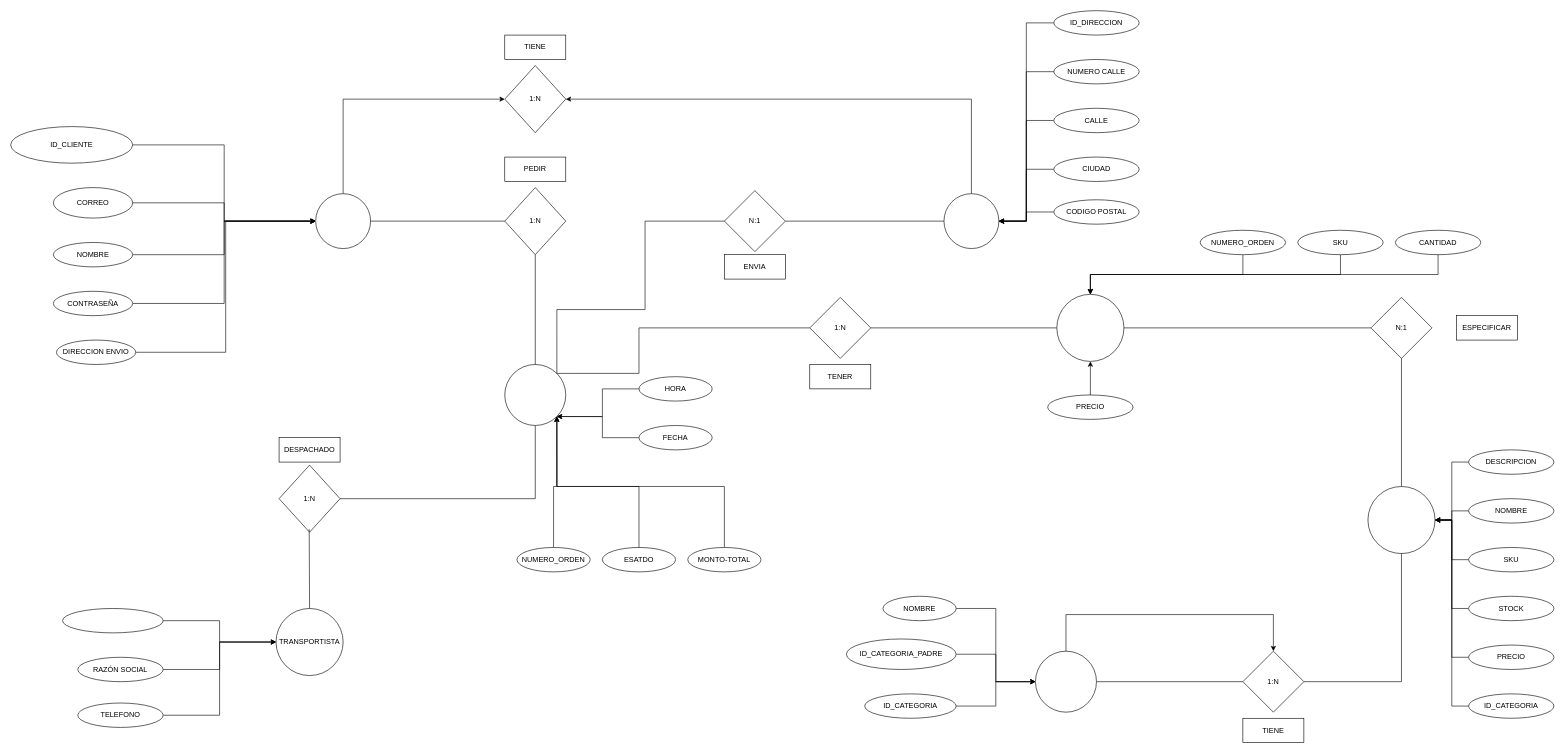
Some shapes in this 1565 by 753 pixel diagram are drawn without their labels. Here are the shapes that lost their labels. From the top down, the centre of each, then its label:
At pixel 343 221: "CLIENTE".
At pixel 971 221: "DIRECCION".
At pixel 1090 327: "DETALLES-ENVIO".
At pixel 535 394: "PEDIDO".
At pixel 1401 520: "PRODUCTO".
At pixel 112 620: "CUIT".
At pixel 1065 681: "CATEGORIA".
